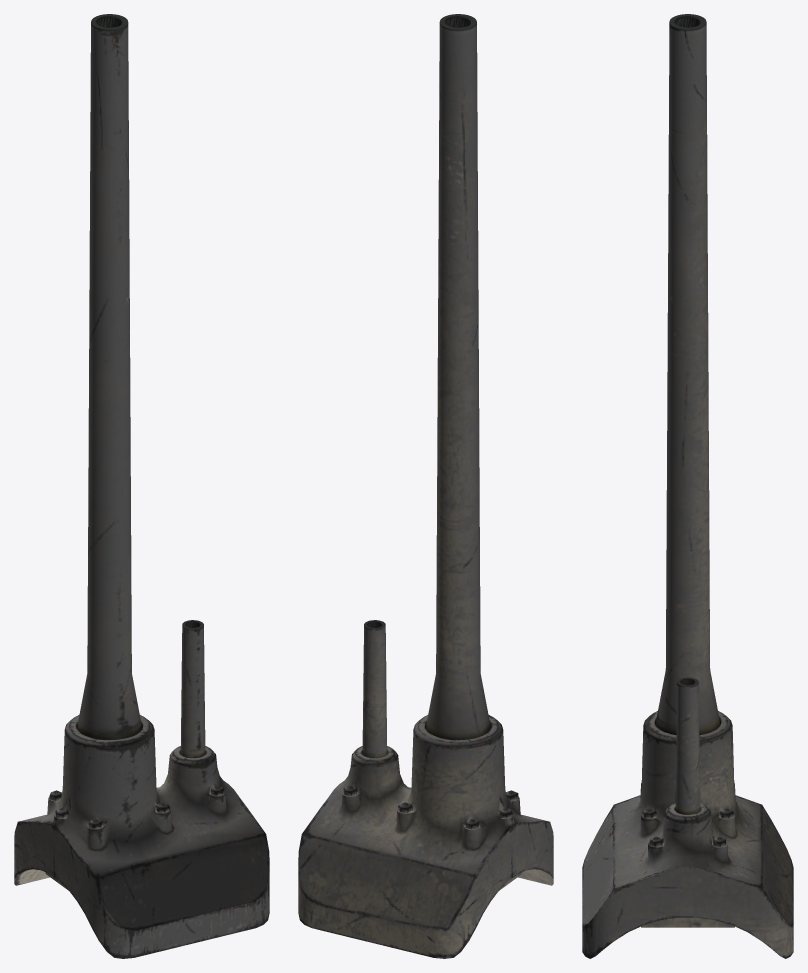
File: Gun_01.glb
3 views of the same model, side by side, from view 1: azimuth 30°, elevation 25°; view 2: azimuth 150°, elevation 25°; view 3: azimuth 270°, elevation 25° (orthographic).
Parts seen in each view (by area): view 1: set_0_group_0; view 2: set_0_group_0; view 3: set_0_group_0.
Boxes of the visible parts, box(x1,y1,x2,y2) form: set_0_group_0: box(14, 14, 269, 958); set_0_group_0: box(298, 14, 553, 958); set_0_group_0: box(582, 14, 793, 958).
Size of the model in its own units: 1.02 by 5 by 1.08.
Materials: 1 (1 with a texture image).
